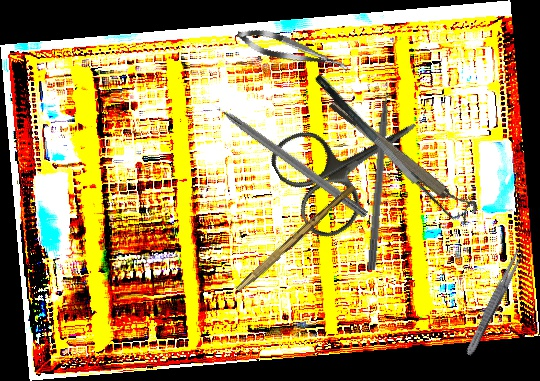Dressing Forceps: (463, 244, 527, 358)
Fixation Ring: (326, 90, 481, 225)
Hook Surgical: (199, 90, 371, 220)
Iris Scissors: (263, 77, 444, 247)
Micro Scissor: (234, 22, 352, 80)
Pusher: (366, 70, 396, 271)
Scalpel Handle: (235, 181, 357, 296)
Spatula Surgical: (312, 62, 469, 231)
